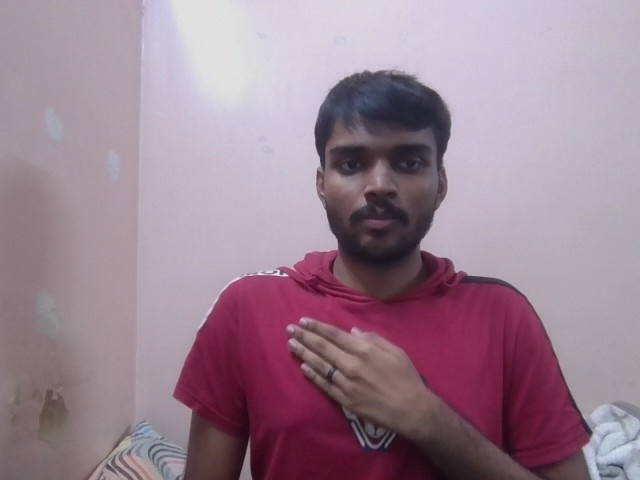Please: (283, 316, 425, 439)
